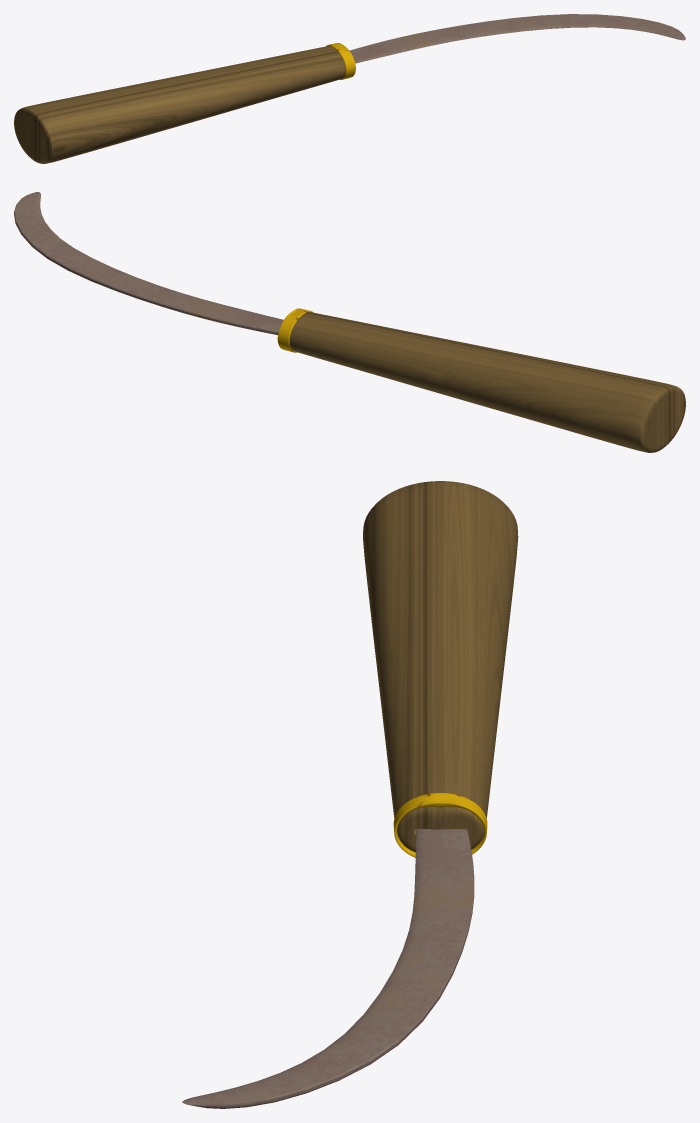
Rendered from FIX_KARIT.fbx.
3 renders of one model, top to bottom at view 1: azimuth 30°, elevation 25°; view 2: azimuth 150°, elevation 25°; view 3: azimuth 270°, elevation 25°, orthographic. The views are drawn at different scales.
Parts seen in each view (by area): view 1: Plane.003; view 2: Plane.003; view 3: Plane.003.
Part boxes in pixels (<box>): Plane.003: <box>14,14,685,163</box>; Plane.003: <box>14,192,685,452</box>; Plane.003: <box>182,481,518,1108</box>.
Size of the model in its own units: 105 by 8.27 by 25.68.
